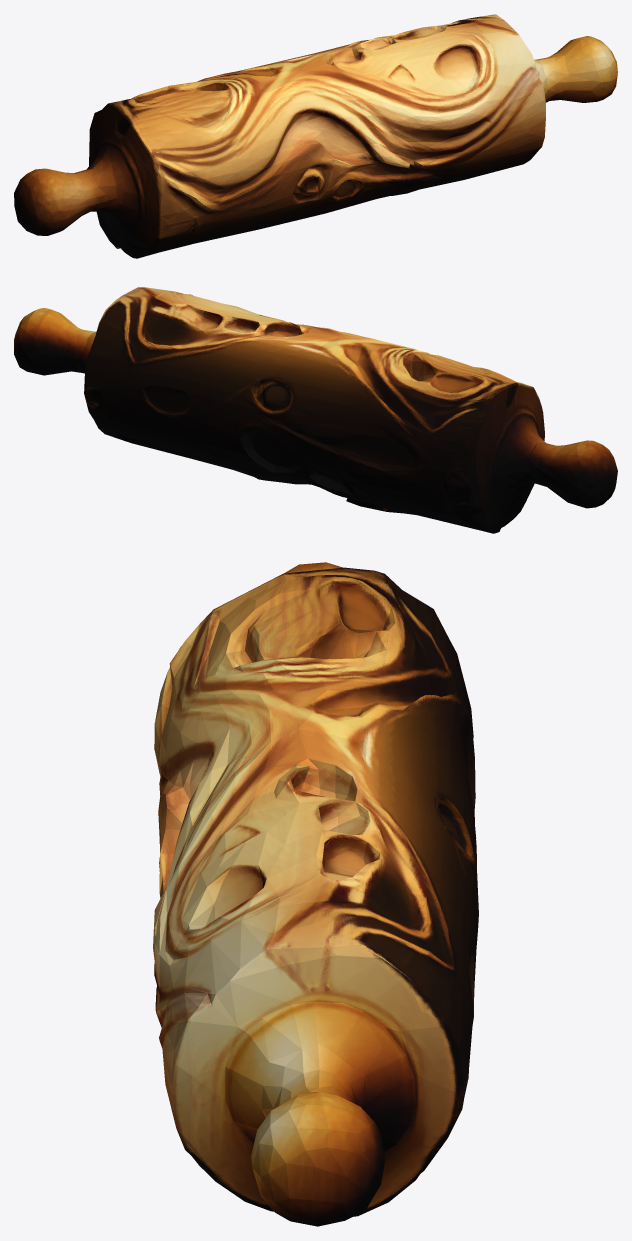
Rendered from wooden-rolling-pin-dune.jpeg.glb.
3 renders of one model, top to bottom at view 1: azimuth 30°, elevation 25°; view 2: azimuth 150°, elevation 25°; view 3: azimuth 270°, elevation 25°, orthographic. The views are drawn at different scales.
Parts seen in each view (by area): view 1: world; view 2: world; view 3: world.
Part boxes in pixels (<box>): world: <box>14,14,617,258</box>; world: <box>14,287,617,533</box>; world: <box>153,562,478,1226</box>.
Bounding box in the file's own units: 1 × 0.2403 × 0.2394.
Materials: 1 (1 with a texture image).
